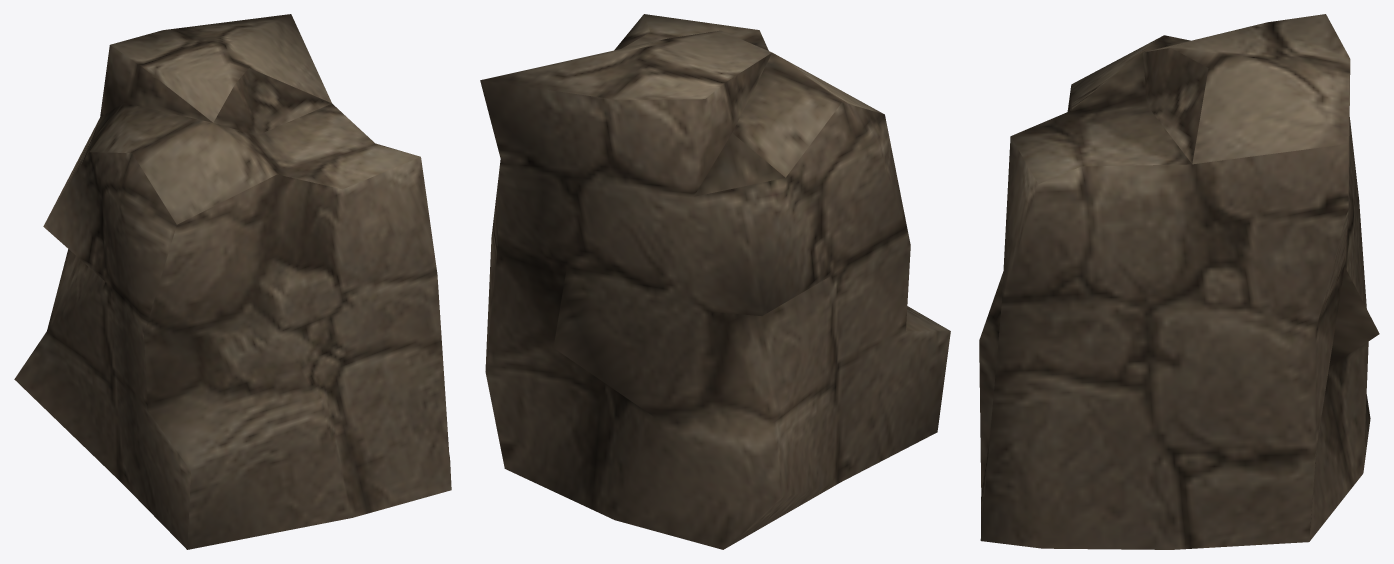
Rendered from shitou02.FBX.
3 views of the same model, side by side, from view 1: azimuth 30°, elevation 25°; view 2: azimuth 150°, elevation 25°; view 3: azimuth 270°, elevation 25° (orthographic). The views are drawn at different scales.
Parts seen in each view (by area): view 1: Group49099; view 2: Group49099; view 3: Group49099.
Part boxes in pixels (x1,y1,x2,y2): Group49099: (14,14,451,549); Group49099: (480,14,950,549); Group49099: (979,14,1379,549).
Size of the model in its own units: 32.29 by 40.48 by 33.85.
